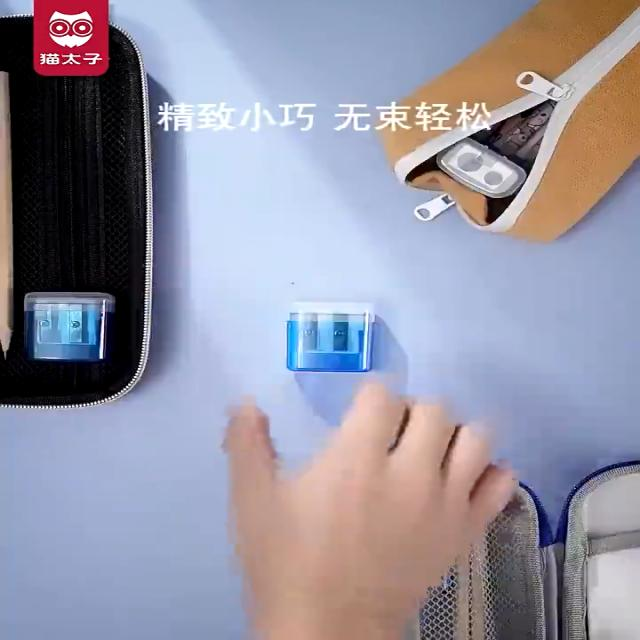pencil_sharpener: (252, 289, 398, 381)
